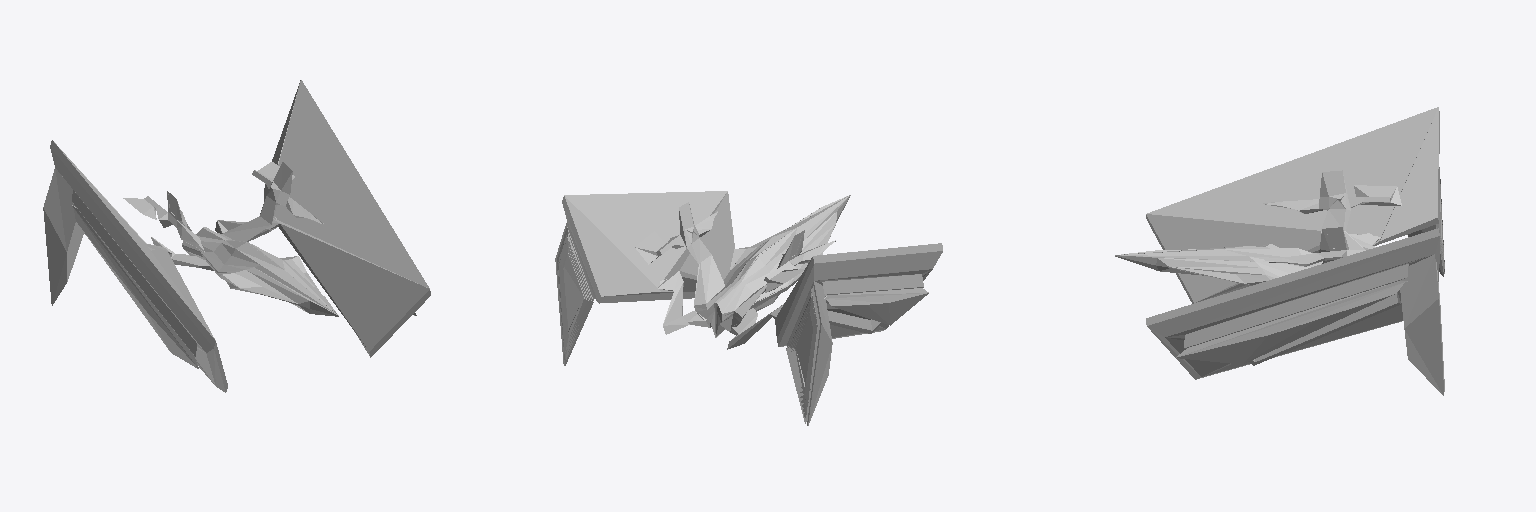
File: SettlerModel.obj
The picture shows the model from 3 angles: view 1: azimuth 30°, elevation 25°; view 2: azimuth 150°, elevation 25°; view 3: azimuth 270°, elevation 25°; orthographic projection.
Visible parts, largest first — view 1: Cube; view 2: Cube; view 3: Cube.
Boxes of the visible parts, <box> form: Cube: <box>43,80,430,392</box>; Cube: <box>555,191,942,425</box>; Cube: <box>1115,107,1444,395</box>.
Bounding box in the file's own units: 13.19 × 8.38 × 14.17.